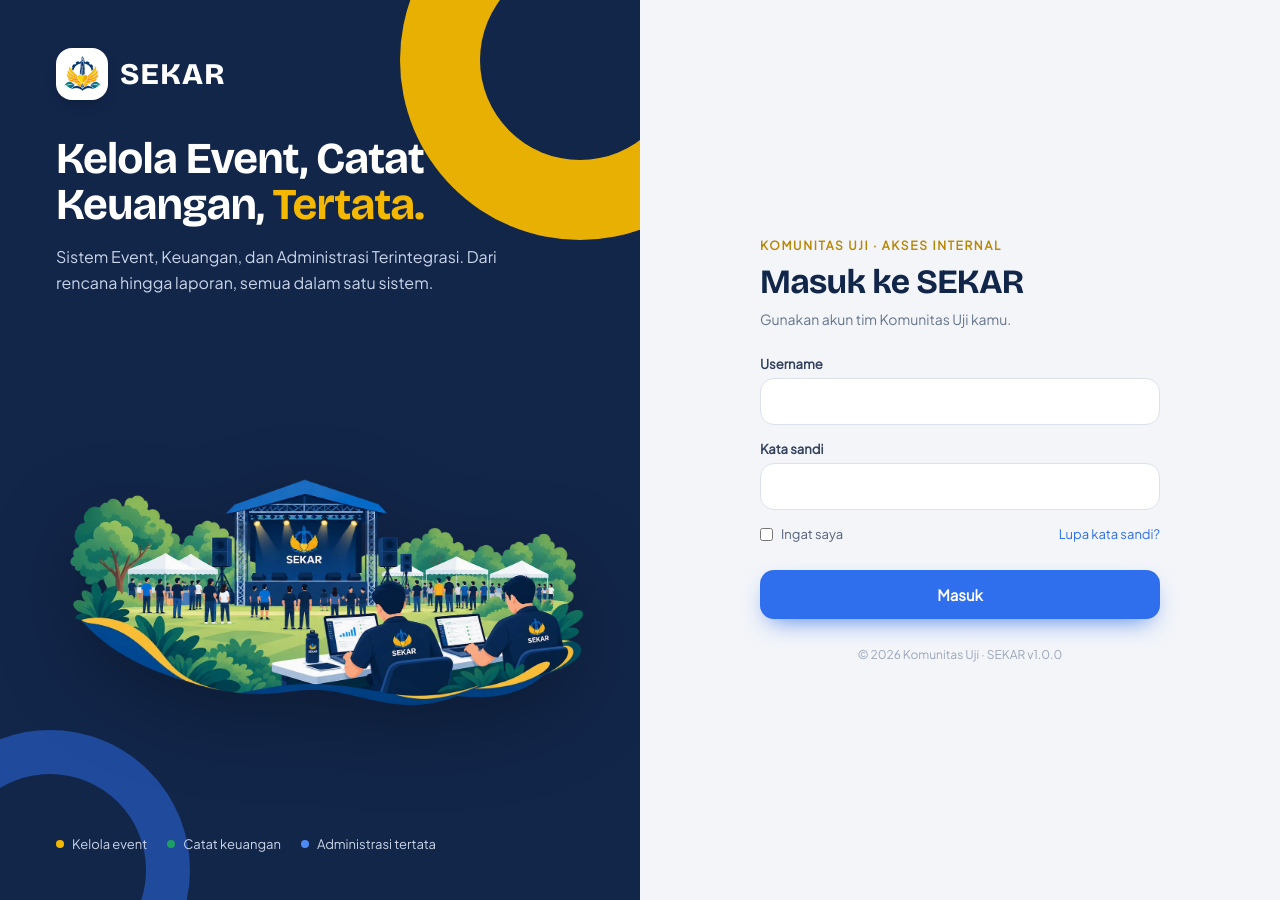
Scenario: sesi › mengarahkan ke login tanpa sesi, lalu masuk lewat API
expect the heading "Masuk ke SEKAR" is shown: met, box [760, 261, 1024, 302]
expect the text "Gunakan akun tim Komunitas Uji kamu." is shown: met, box [760, 310, 1011, 328]
Type "admin" into the field labelled "Username".
click(960, 402); type("admin")  # box [760, 378, 1160, 425]
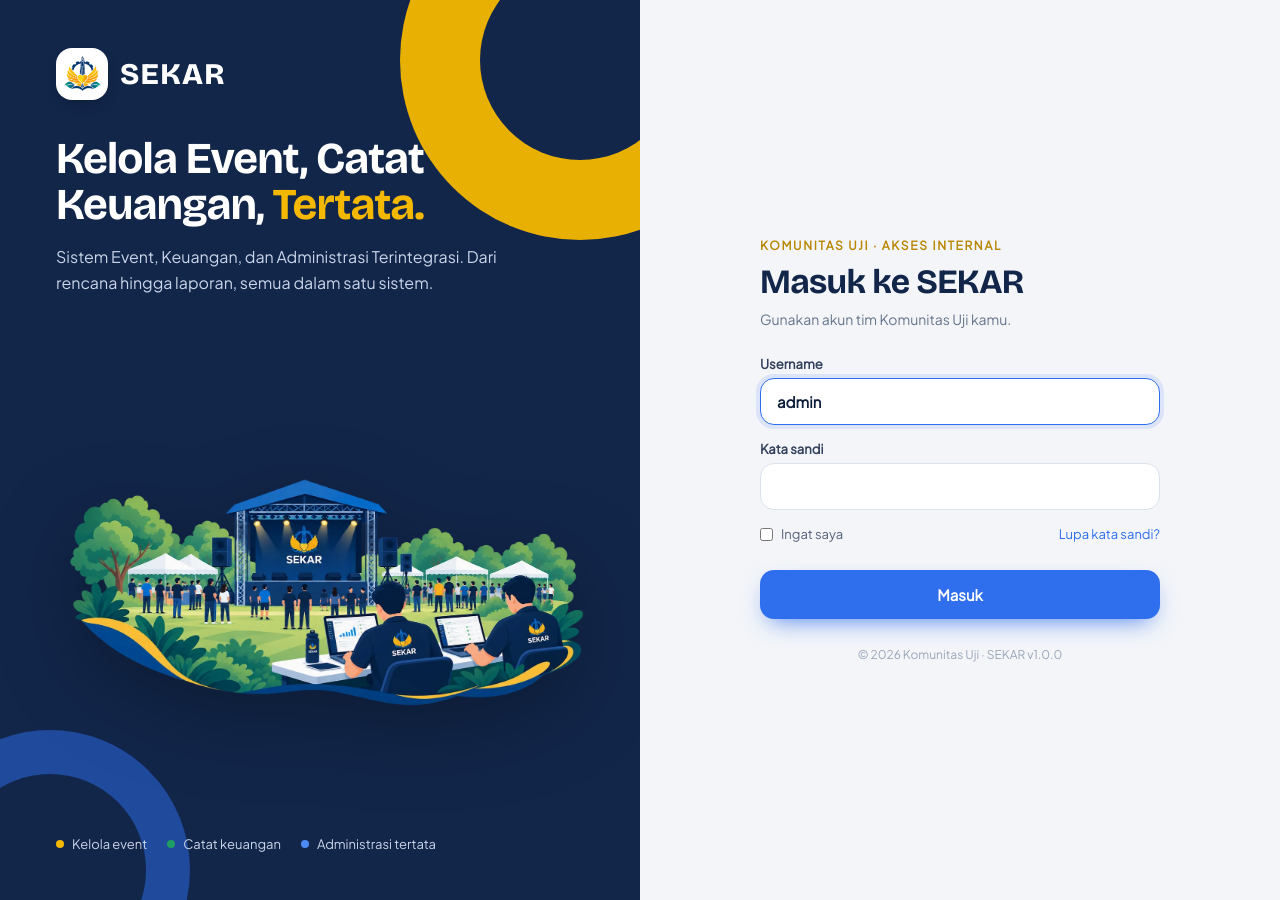
Type "rahasia-123" into the password field labelled "Kata sandi".
click(960, 486); type("rahasia-123")  # box [760, 463, 1160, 510]
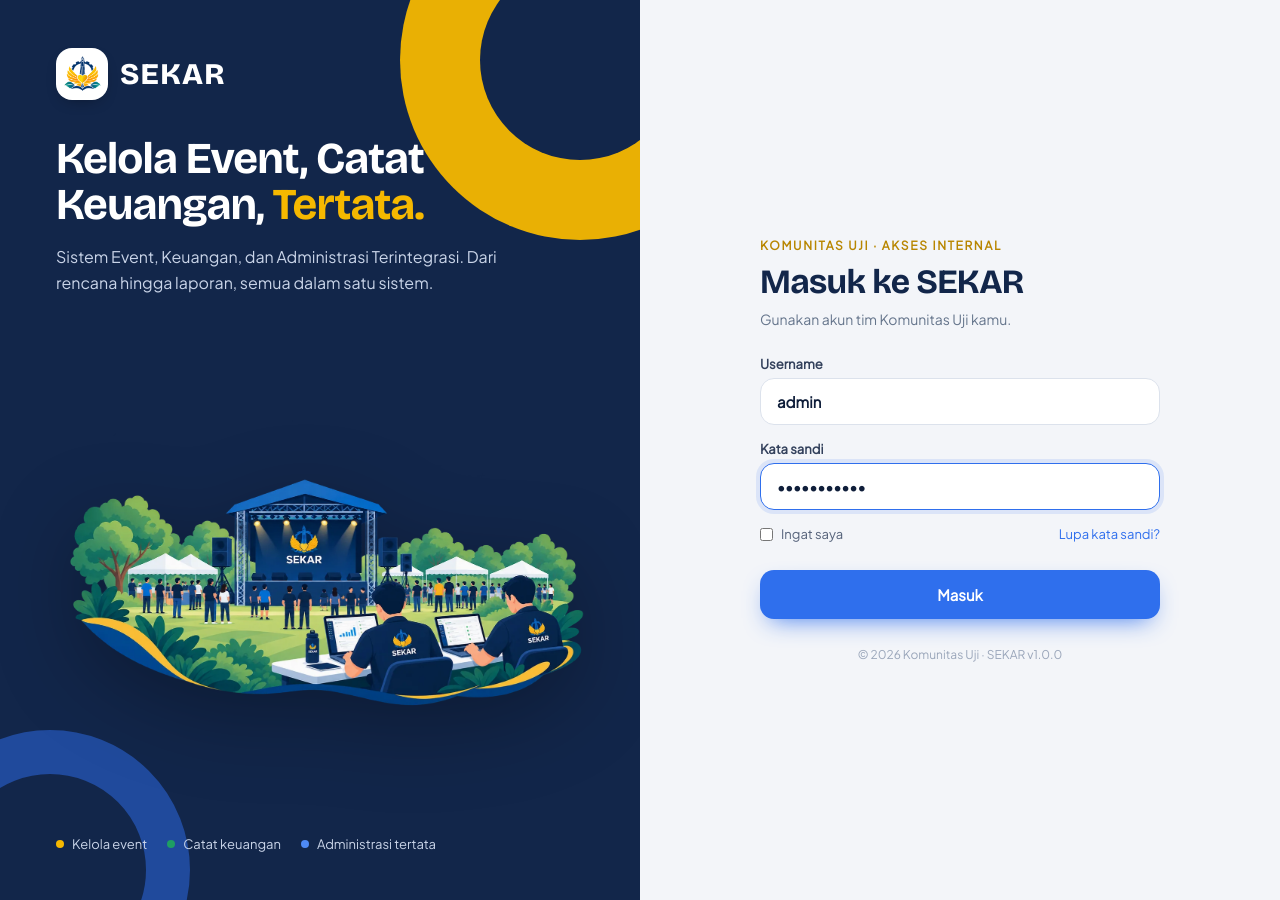
Click the checkbox labelled "Ingat saya".
click(766, 534)  # box [760, 528, 773, 540]
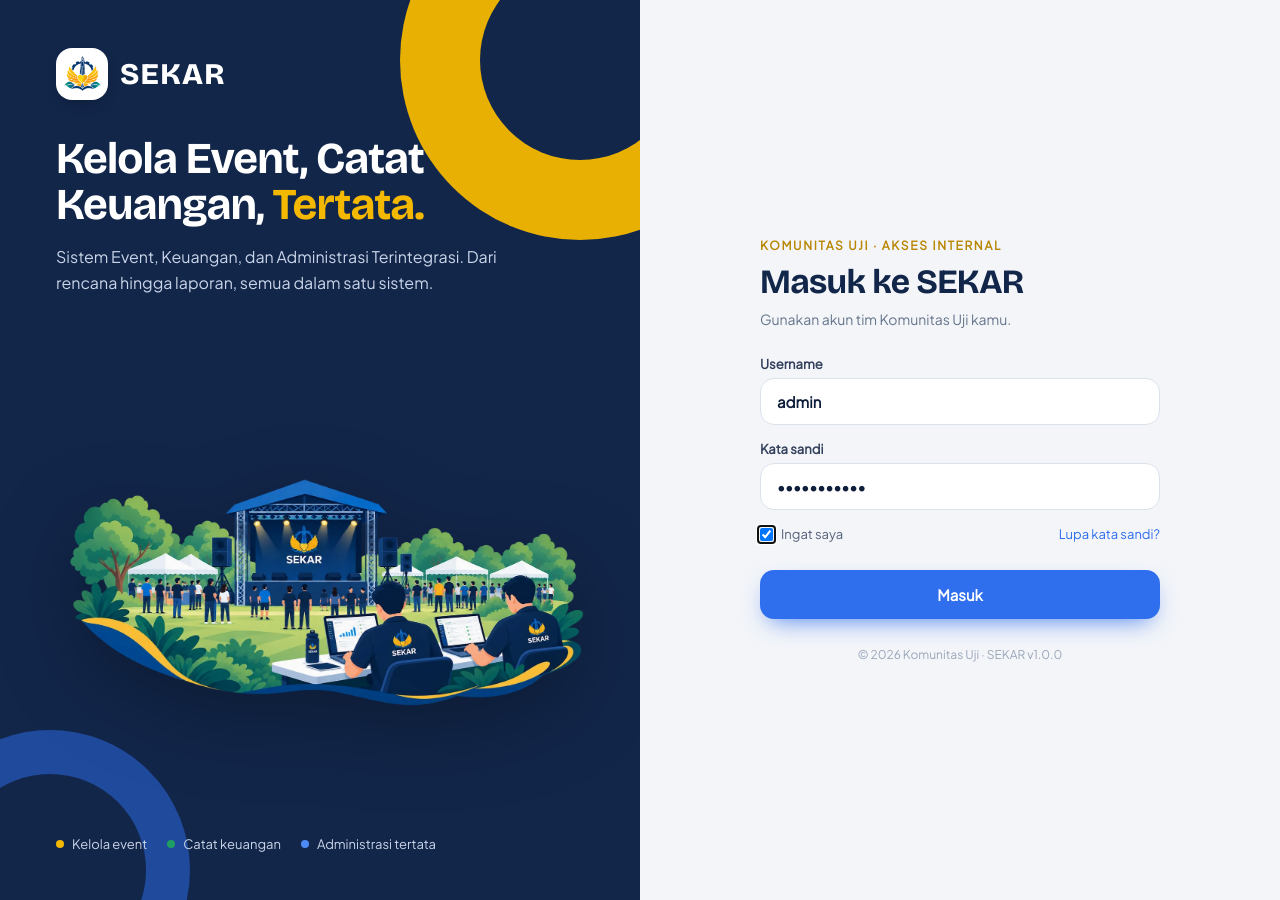
Click the button "Masuk".
click(960, 594)  # box [760, 570, 1160, 619]
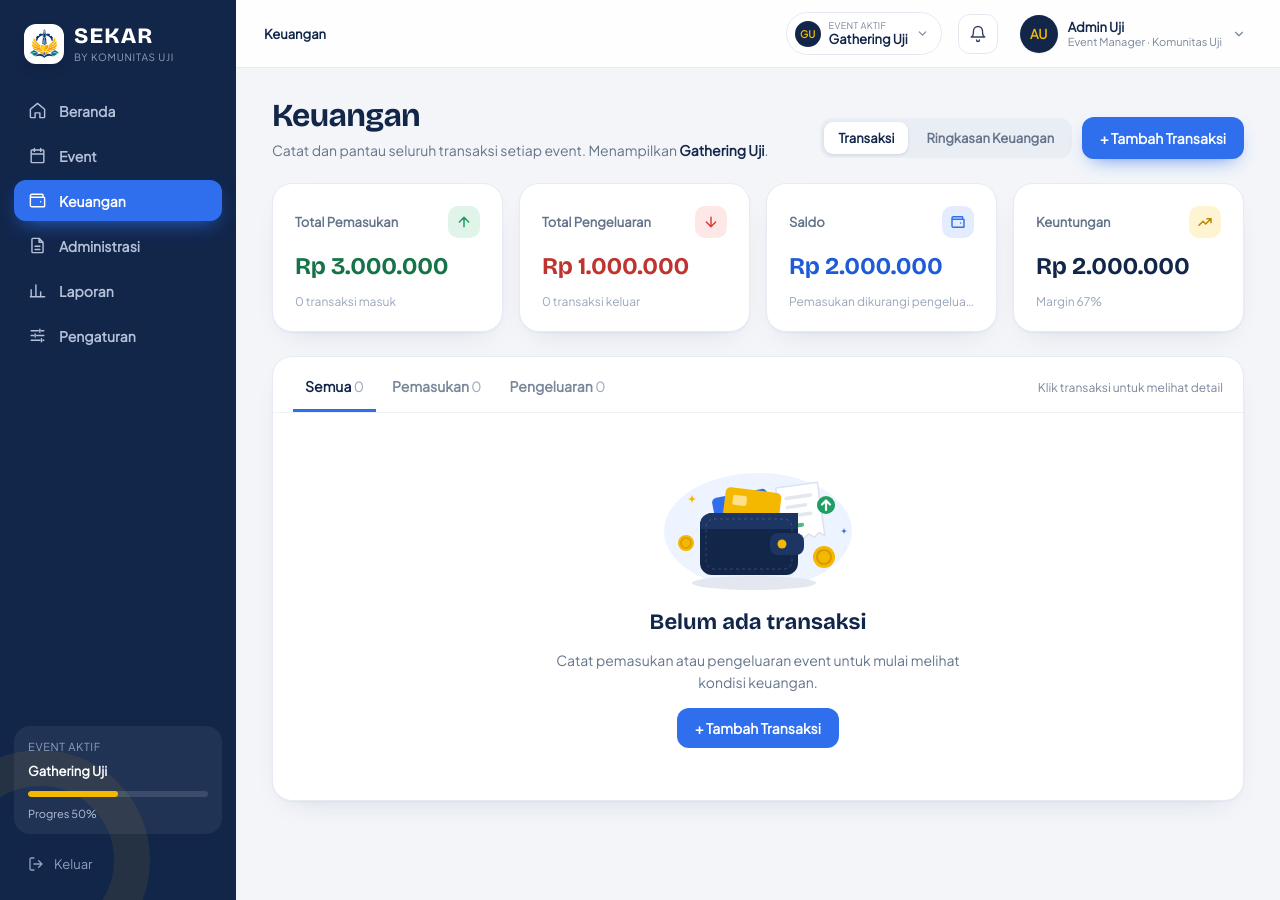
expect the heading "Keuangan" is shown: met, box [272, 96, 420, 135]
